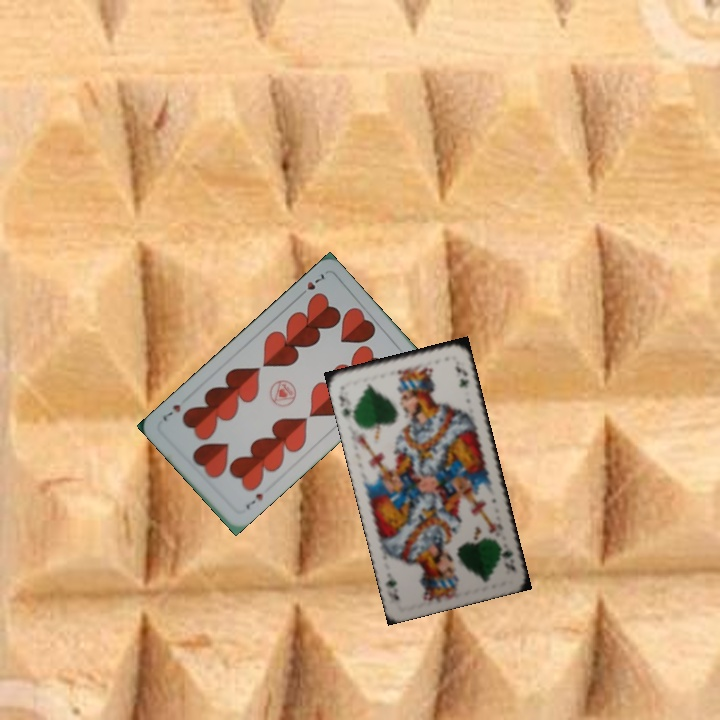GK: (335, 386, 358, 424), (495, 538, 517, 574)
H7: (295, 269, 327, 300), (241, 489, 266, 512)
